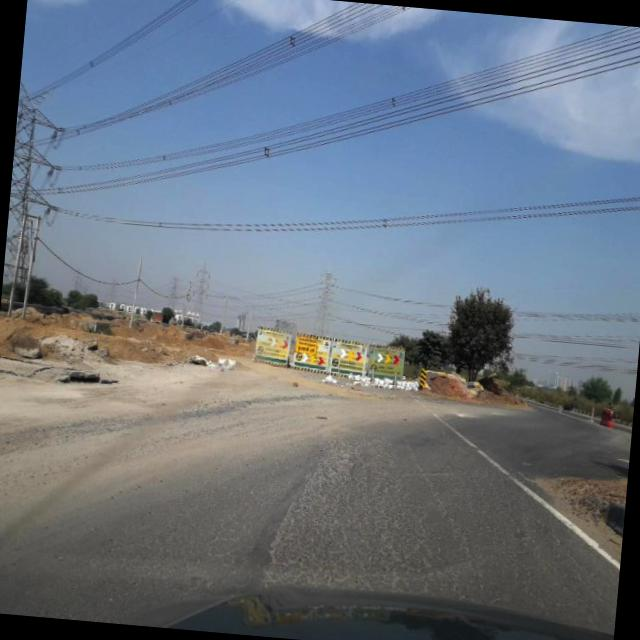crack: (200, 431, 578, 614)
